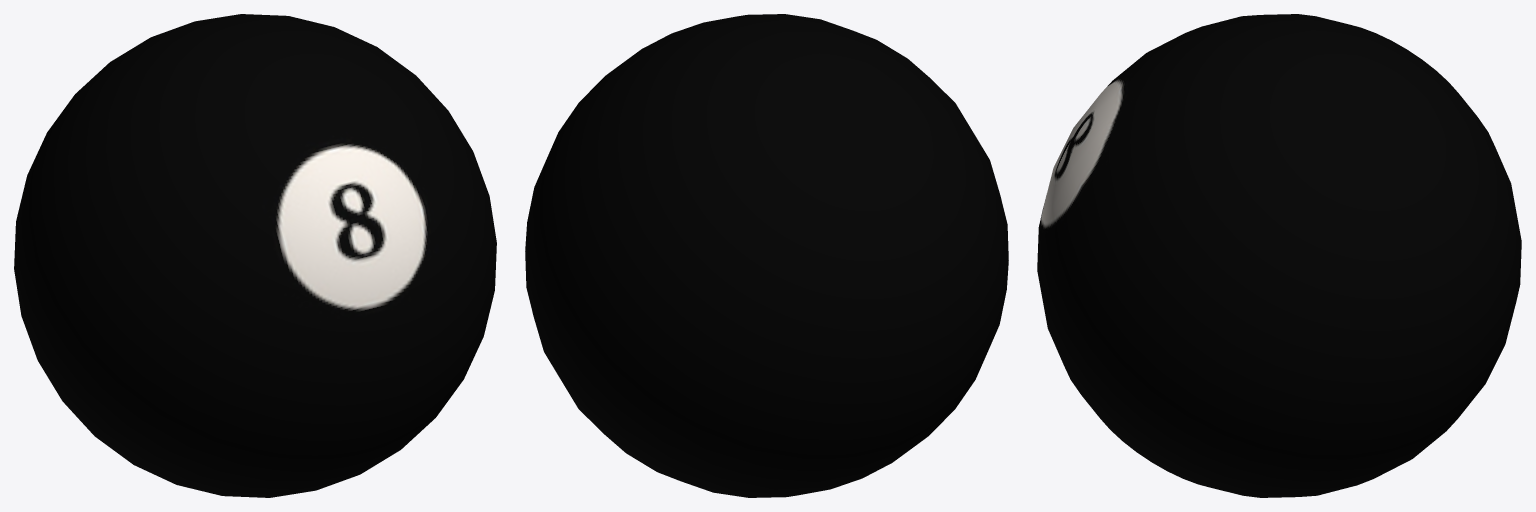
Rendered from black.glb.
The picture shows the model from 3 angles, left to right: view 1: azimuth 30°, elevation 25°; view 2: azimuth 150°, elevation 25°; view 3: azimuth 270°, elevation 25°; orthographic projection.
Visible parts, largest first — view 1: Ball8_14 - Default_0; view 2: Ball8_14 - Default_0; view 3: Ball8_14 - Default_0.
Part boxes in pixels (x1,y1,x2,y2): Ball8_14 - Default_0: (14, 14, 496, 497); Ball8_14 - Default_0: (525, 14, 1008, 497); Ball8_14 - Default_0: (1037, 14, 1521, 497).
Size of the model in its own units: 37.86 by 37.78 by 37.78.
1 material, 1 textured.
